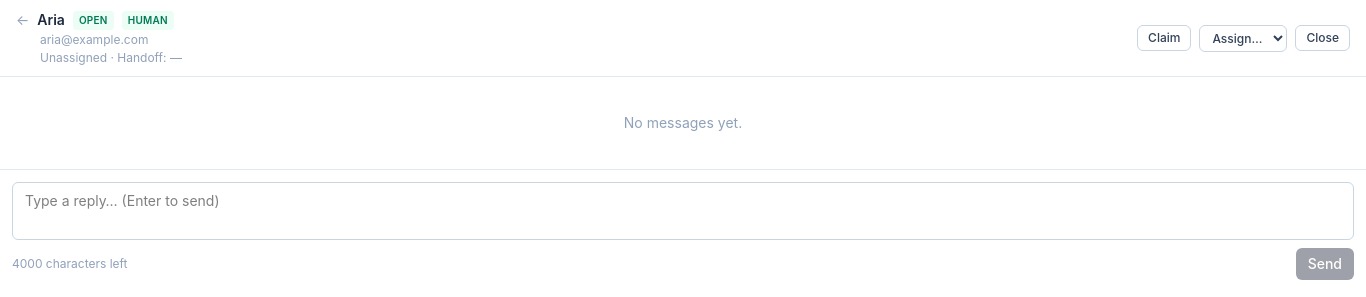
Test: ConversationPane › falls back to REST with the same clientMessageId when the ack is lost
Type "resilient message" into the text box labelled "reply" at (683, 211), box [12, 182, 1354, 240]
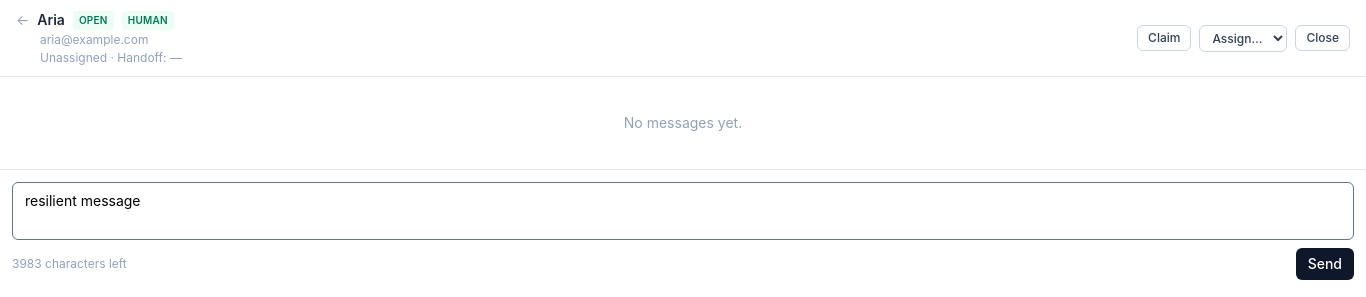
Click the button "Send" at (1325, 264), box [1296, 248, 1354, 280]
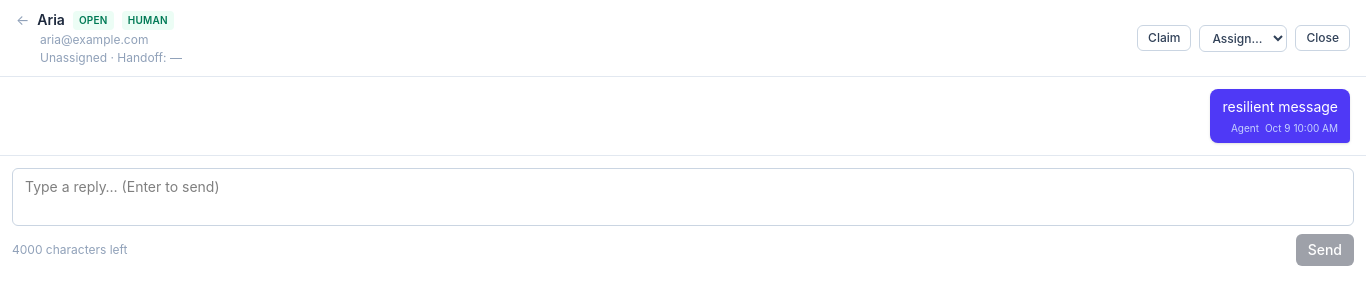
Now the text "resilient message" is shown, box [1222, 97, 1338, 117]
